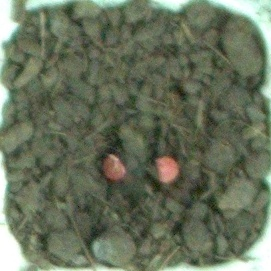pepper seed: (62, 63, 244, 247), (34, 61, 164, 243)
